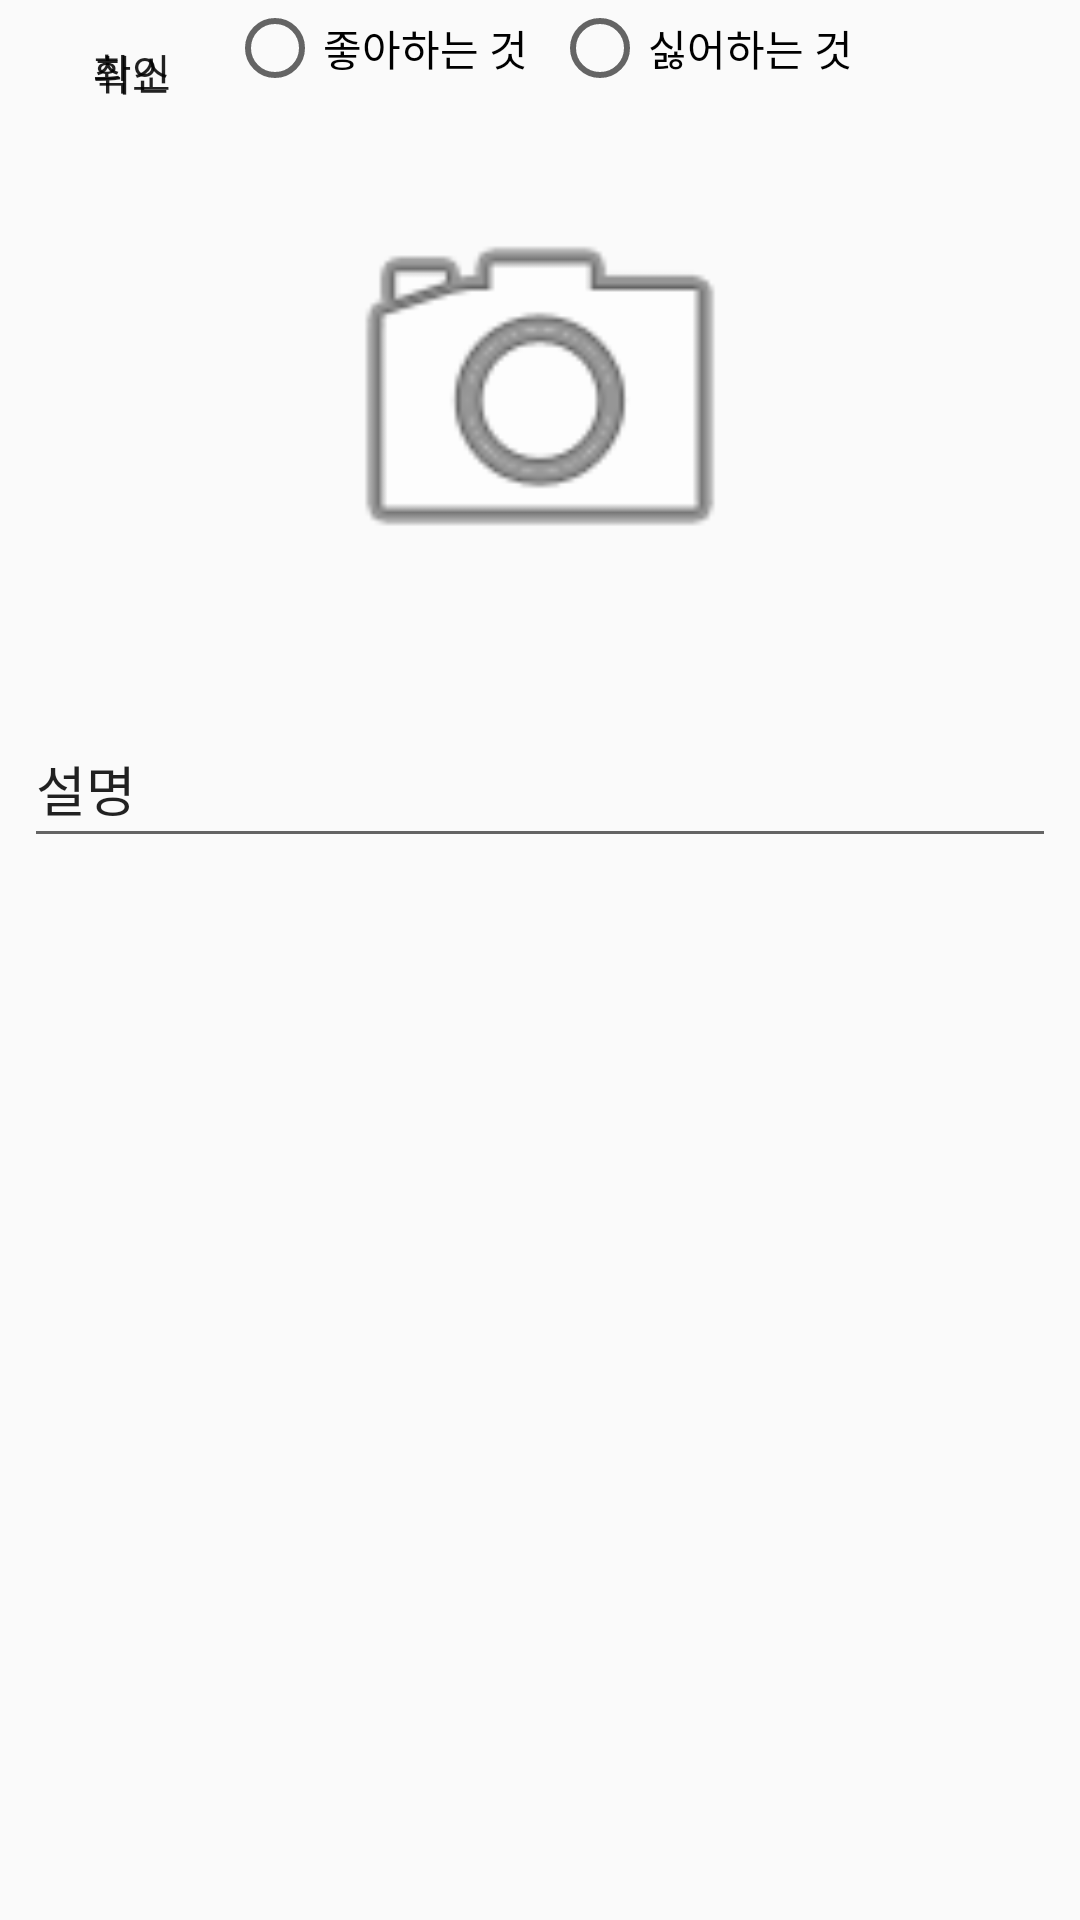

Locate icon controls on the screen. Image size 1080x1920, boxes as [x1, y1, x2, y2].
camera: [366, 247, 714, 525]
